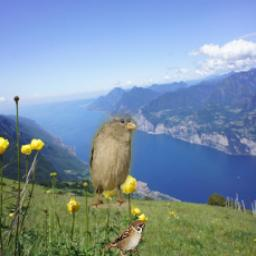Sparrow: (91, 110, 139, 209), (101, 220, 145, 256)
